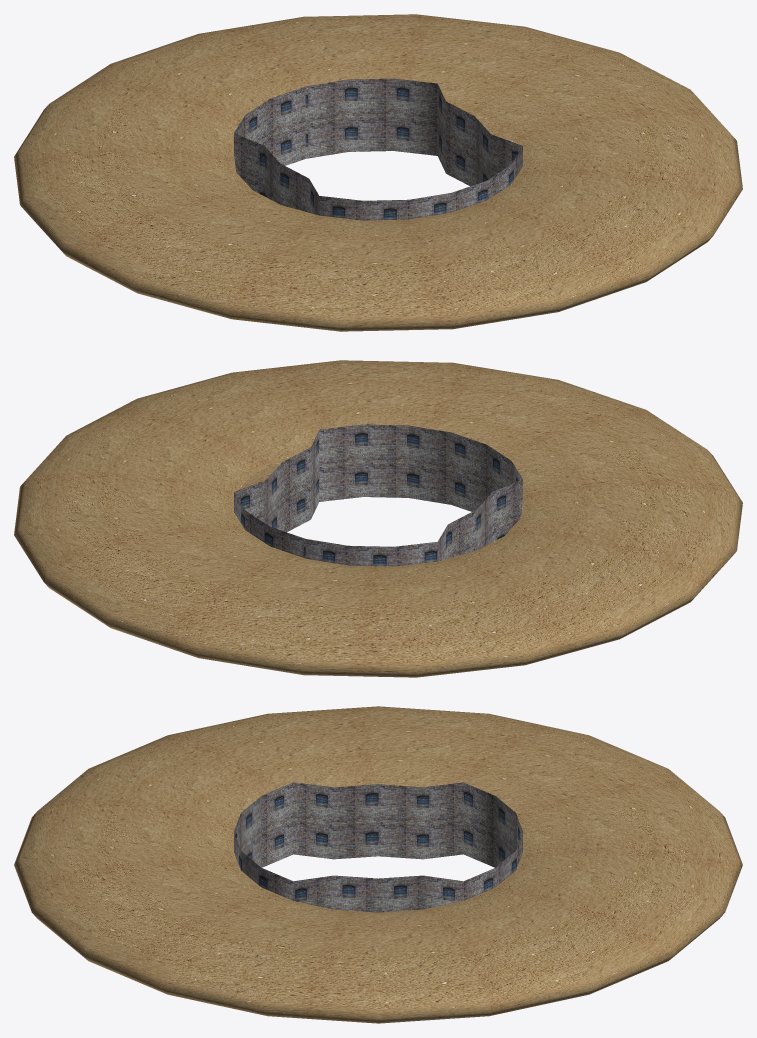
Rendered from Stage_2_Outside.obj.
3 renders of one model, top to bottom at view 1: azimuth 30°, elevation 25°; view 2: azimuth 150°, elevation 25°; view 3: azimuth 270°, elevation 25°, orthographic.
Parts seen in each view (by area): view 1: Stage_2_Outside; view 2: Stage_2_Outside; view 3: Stage_2_Outside.
Boxes of the visible parts, <box> form: Stage_2_Outside: <box>14,14,742,331</box>; Stage_2_Outside: <box>14,360,742,677</box>; Stage_2_Outside: <box>14,706,742,1023</box>.
Bounding box in the file's own units: 97.9 × 10.68 × 97.9.
Materials: 2 (2 with a texture image).
